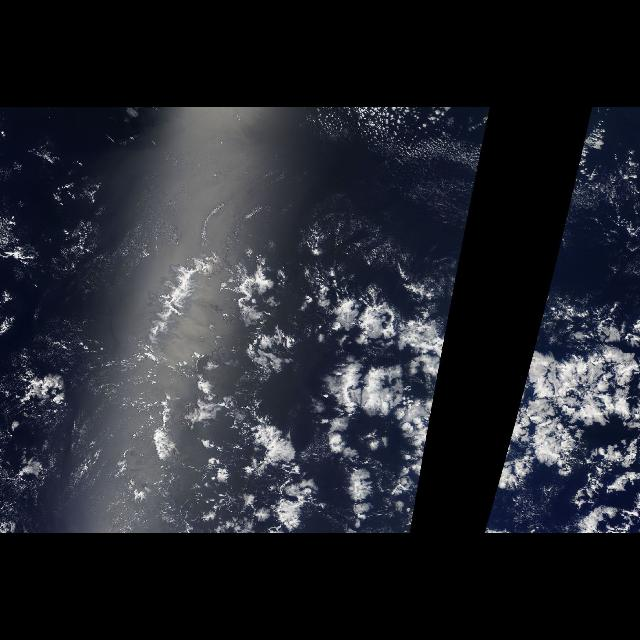Flower: (95, 246, 463, 534), (484, 246, 640, 534)
